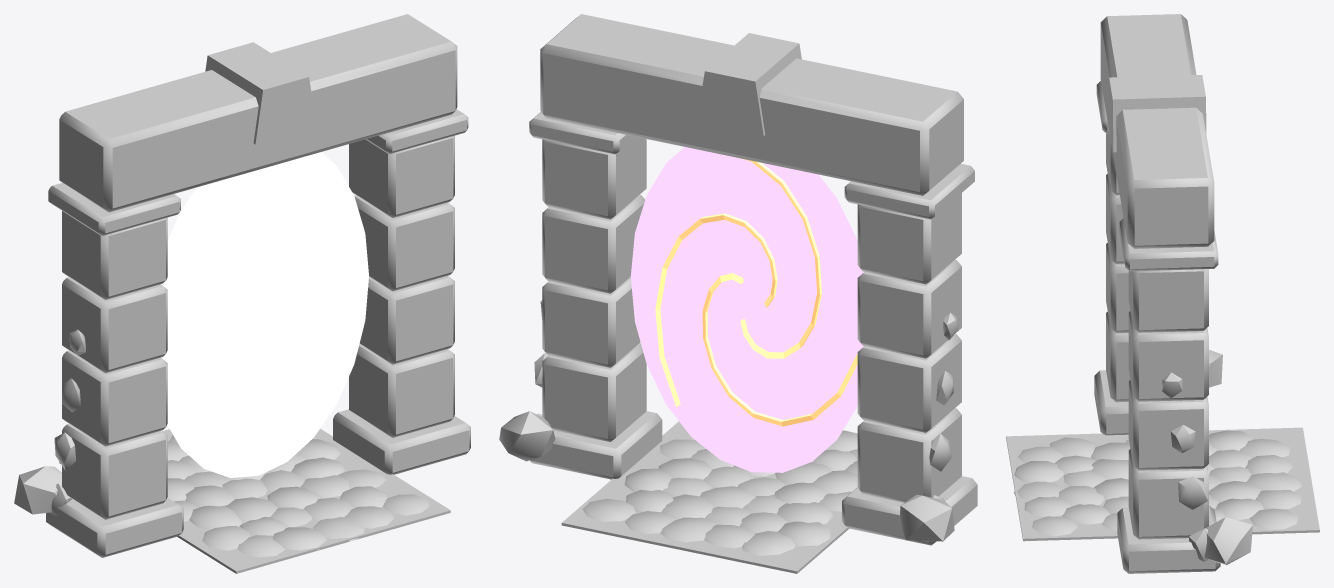
File: zon_diaryring_discord_lite.glb
3 renders of one model, left to right at view 1: azimuth 30°, elevation 25°; view 2: azimuth 150°, elevation 25°; view 3: azimuth 270°, elevation 25°, orthographic. The views are drawn at different scales.
Visible parts, largest first — view 1: SM_zon_diaryring_discord_lite_kit_diaryring_discord_x0_z0, ANIM_bld_discord_lite_swirl__0; view 2: SM_zon_diaryring_discord_lite_kit_diaryring_discord_x0_z0, ANIM_bld_discord_lite_swirl__0; view 3: SM_zon_diaryring_discord_lite_kit_diaryring_discord_x0_z0.
Part boxes in pixels (<box>): SM_zon_diaryring_discord_lite_kit_diaryring_discord_x0_z0: <box>14,14,470,573</box>; ANIM_bld_discord_lite_swirl__0: <box>161,152,368,477</box>; SM_zon_diaryring_discord_lite_kit_diaryring_discord_x0_z0: <box>499,14,977,573</box>; ANIM_bld_discord_lite_swirl__0: <box>630,147,864,472</box>; SM_zon_diaryring_discord_lite_kit_diaryring_discord_x0_z0: <box>1006,14,1319,573</box>.
Bounding box in the file's own units: 4.3 × 4.05 × 2.89.
